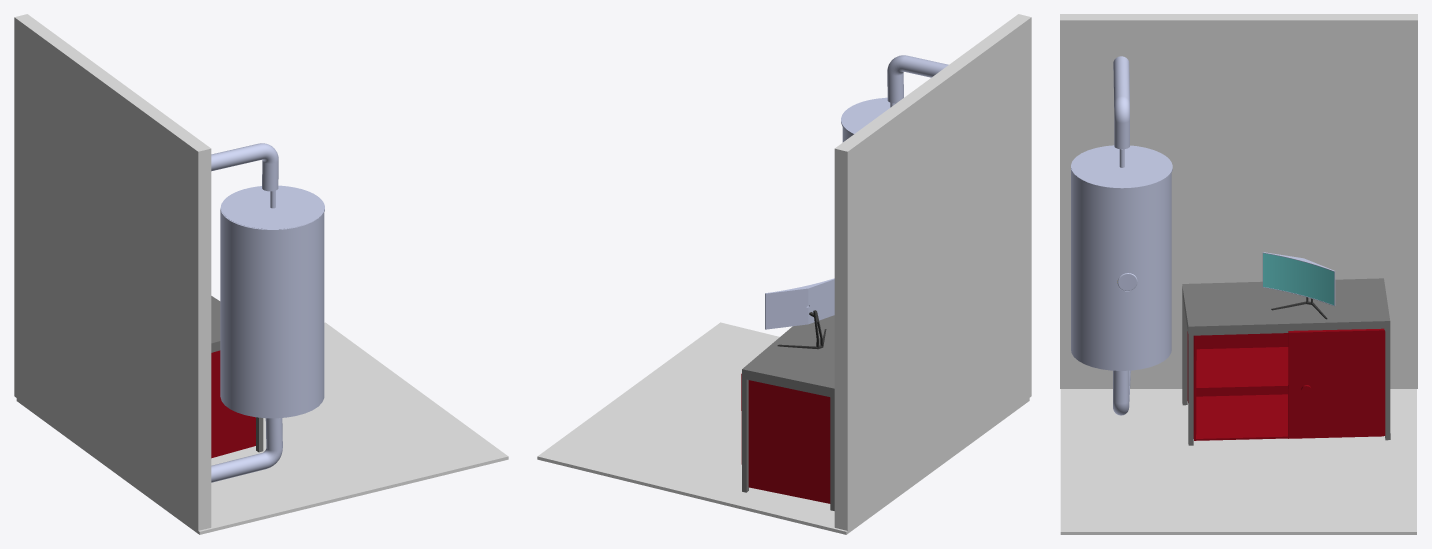
File: catalystReactorWithLid.fbx
3 views of the same model, side by side, from view 1: azimuth 30°, elevation 25°; view 2: azimuth 150°, elevation 25°; view 3: azimuth 270°, elevation 25° (orthographic). The views are drawn at different scales.
Visible parts, largest first — view 1: Box001, Floor, Ø0.15 (50) Durchmesser Bohrung60, Ø0.15 (20) Durchmesser Bohrung1, Aufsatz-Linear austragen3, Verbiegen1, Verbiegen002, Aufsatz-Linear austragen4; view 2: Box001, Floor, Aufsatz-Linear austragen3, Aufsatz-Linear austragen4, Cut-Extrude2, Verbiegen002, Ø0.15 (20) Durchmesser Bohrung1; view 3: Box001, Floor, Ø0.15 (50) Durchmesser Bohrung60, Aufsatz-Linear austragen4, Aufsatz-Linear austragen7, Aufsatz-Linear austragen3, Ø0.15 (20) Durchmesser Bohrung1, Cut-Extrude2, Verbiegen002, Verbiegen1.
Part boxes in pixels (x1,y1,x2,y2): Box001: [14, 14, 211, 530]; Floor: [16, 322, 508, 534]; Ø0.15 (50) Durchmesser Bohrung60: [220, 203, 324, 418]; Ø0.15 (20) Durchmesser Bohrung1: [221, 185, 324, 229]; Aufsatz-Linear austragen3: [211, 350, 255, 458]; Verbiegen1: [211, 418, 282, 482]; Verbiegen002: [211, 143, 278, 191]; Aufsatz-Linear austragen4: [211, 296, 263, 452]; Box001: [834, 14, 1031, 530]; Floor: [537, 322, 1029, 534]; Aufsatz-Linear austragen3: [748, 380, 830, 503]; Aufsatz-Linear austragen4: [742, 315, 834, 510]; Cut-Extrude2: [765, 278, 834, 329]; Verbiegen002: [887, 55, 948, 103]; Ø0.15 (20) Durchmesser Bohrung1: [841, 97, 895, 135]; Box001: [1060, 14, 1417, 388]; Floor: [1060, 389, 1416, 534]; Ø0.15 (50) Durchmesser Bohrung60: [1071, 145, 1171, 370]; Aufsatz-Linear austragen4: [1182, 278, 1390, 445]; Aufsatz-Linear austragen7: [1288, 328, 1384, 438]; Aufsatz-Linear austragen3: [1187, 330, 1385, 440]; Ø0.15 (20) Durchmesser Bohrung1: [1071, 145, 1172, 189]; Cut-Extrude2: [1262, 252, 1335, 306]; Verbiegen002: [1113, 56, 1129, 149]; Verbiegen1: [1113, 370, 1130, 415].
Size of the model in its own units: 136 by 160 by 139.
